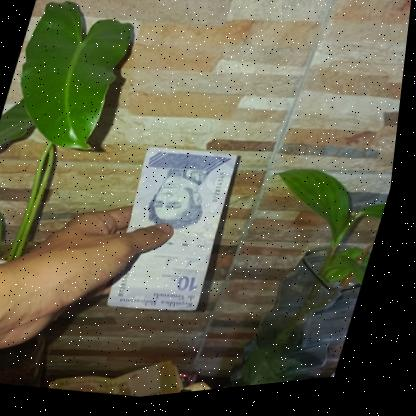ten-front-vef: (103, 140, 250, 326)
